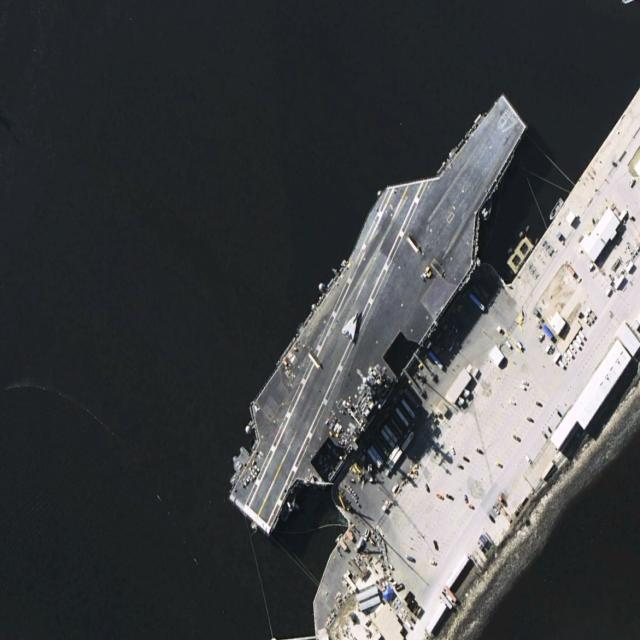Aircraft Carrier: (204, 51, 549, 566)
